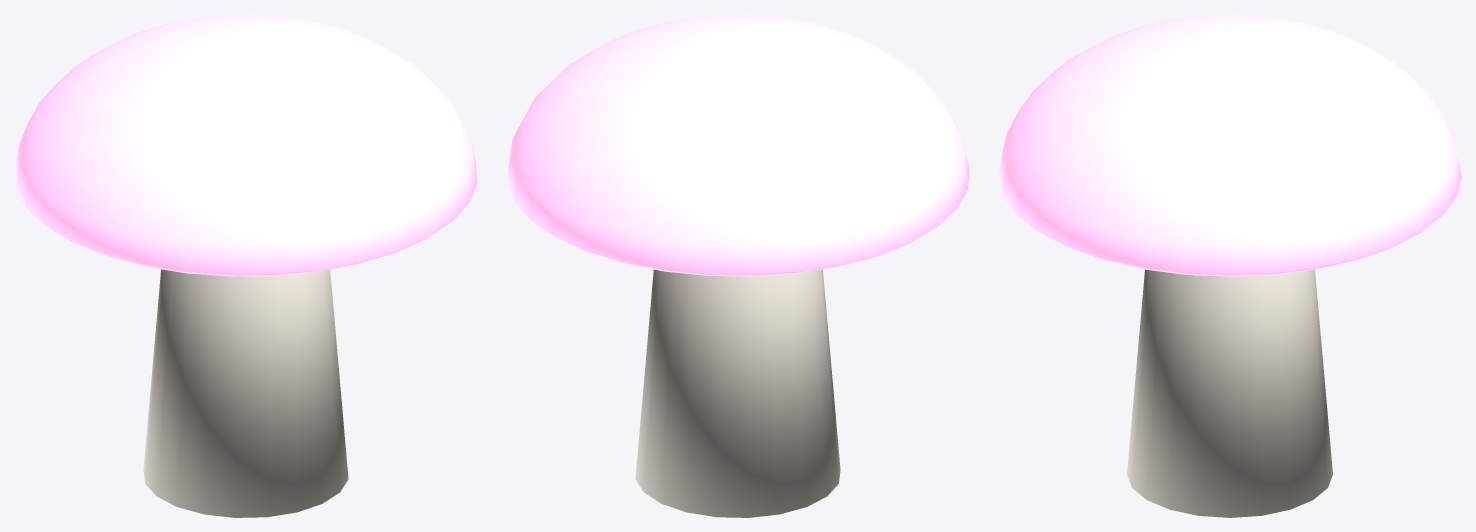
File: mushroom.glb
The picture shows the model from 3 angles, left to right: view 1: azimuth 30°, elevation 25°; view 2: azimuth 150°, elevation 25°; view 3: azimuth 270°, elevation 25°; orthographic projection.
Visible parts, largest first — view 1: Cap, Stem; view 2: Cap, Stem; view 3: Cap, Stem.
Boxes of the visible parts, bbox=[...] form: Cap: bbox=[14, 14, 477, 276]; Stem: bbox=[143, 269, 348, 517]; Cap: bbox=[506, 14, 969, 276]; Stem: bbox=[635, 269, 840, 517]; Cap: bbox=[998, 14, 1461, 276]; Stem: bbox=[1127, 269, 1332, 517].
Bounding box in the file's own units: 1.44 × 1.47 × 1.44.
